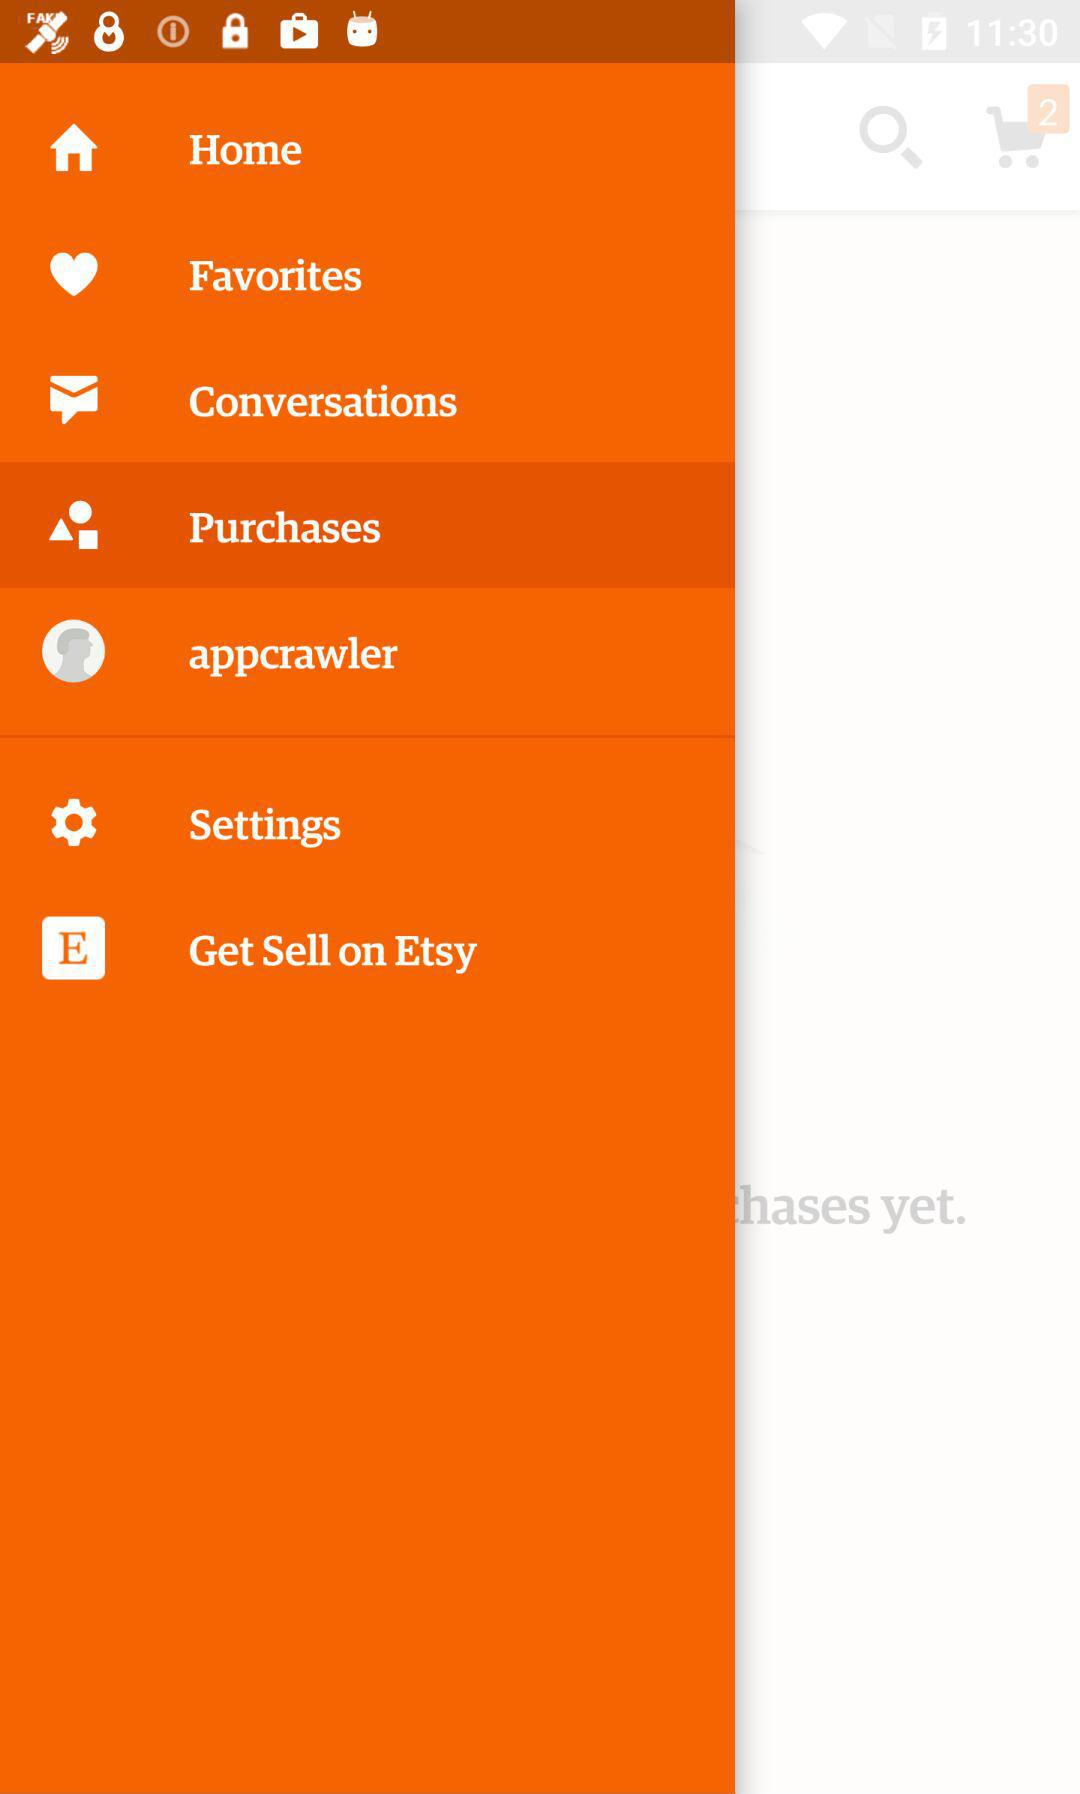Drawer: (1, 64, 735, 1794)
Icon: (42, 619, 108, 684), (50, 375, 100, 427), (50, 123, 100, 174), (51, 798, 99, 848), (50, 252, 100, 299)
Image: (42, 916, 108, 982), (47, 500, 100, 551)
Text: (190, 932, 479, 976), (190, 384, 459, 419), (190, 636, 400, 679), (190, 510, 383, 546), (190, 807, 342, 850), (188, 258, 363, 293), (190, 135, 304, 167)
UpperTaskBar: (1, 1, 1080, 64)
